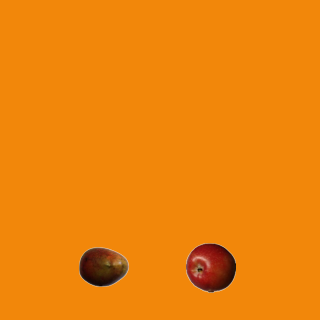Apple Braeburn: (185, 242, 235, 292)
Mango Red: (78, 241, 128, 291)
